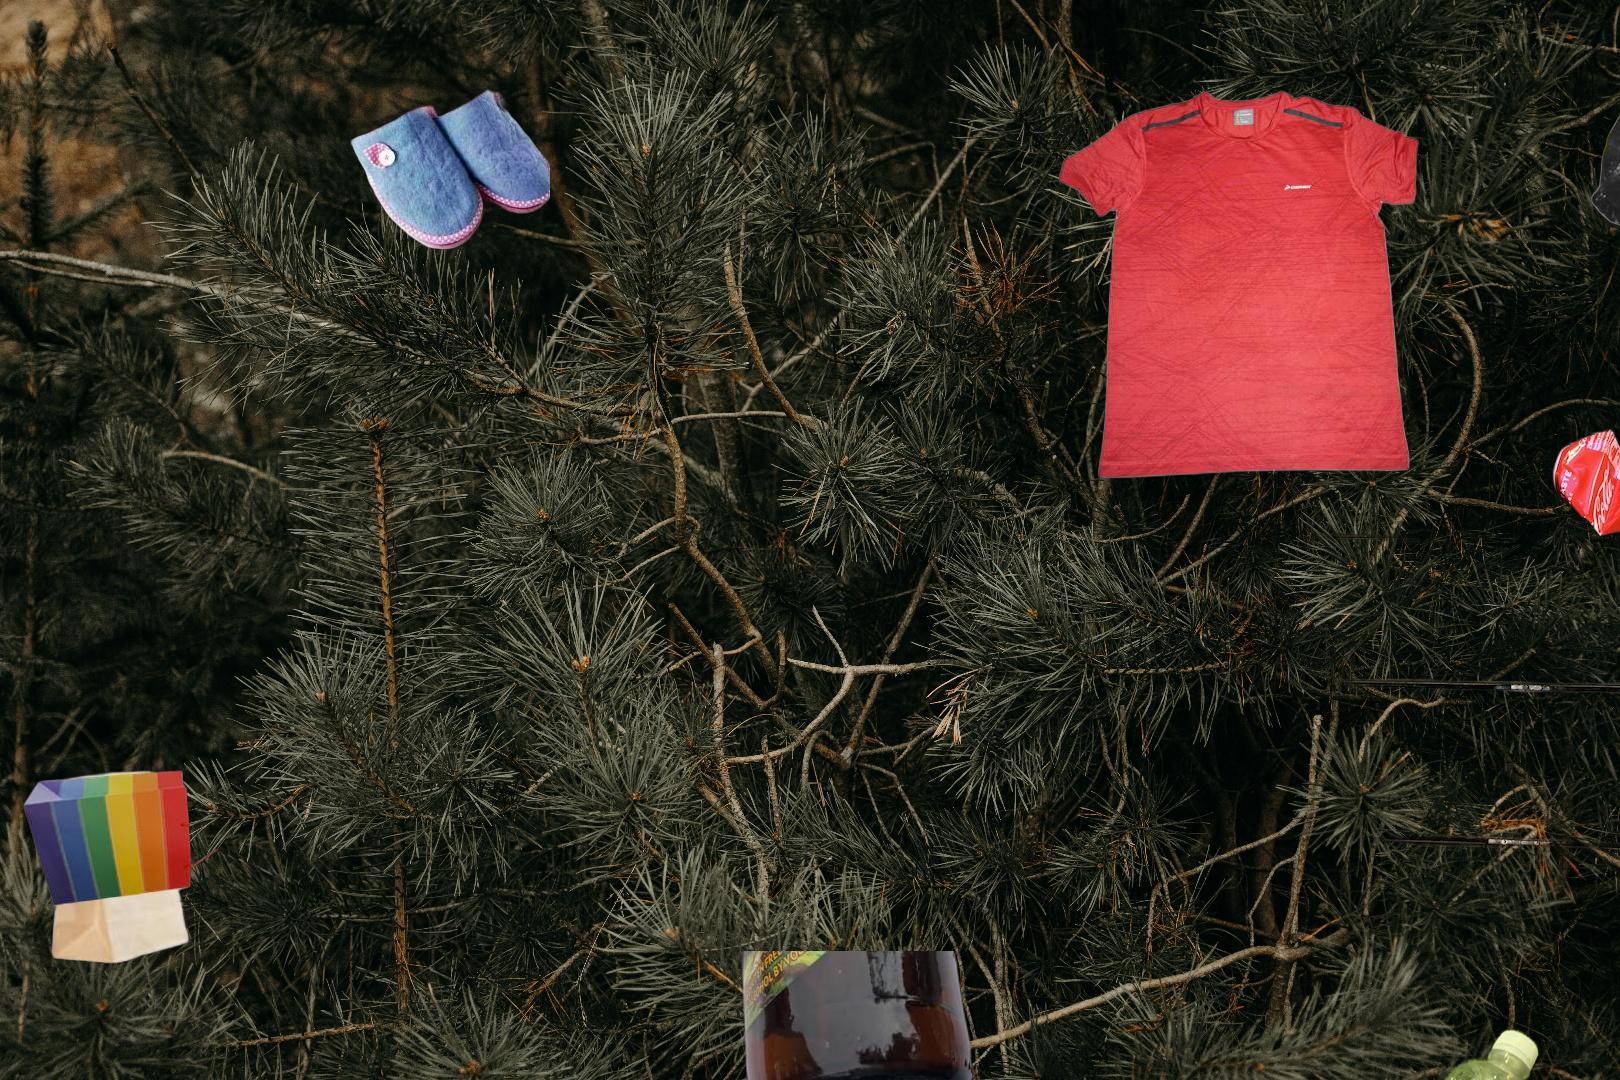clothes: (1055, 86, 1423, 483)
glass: (738, 951, 978, 1080)
metal-cans: (1255, 365, 1620, 1029)
paper-bag: (20, 767, 224, 967)
plastic-bag: (1588, 76, 1620, 260)
plastic-bottles: (1327, 1023, 1544, 1080)
shoes: (350, 71, 550, 253)
